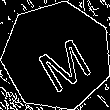M_NW: (24, 23, 90, 89)
